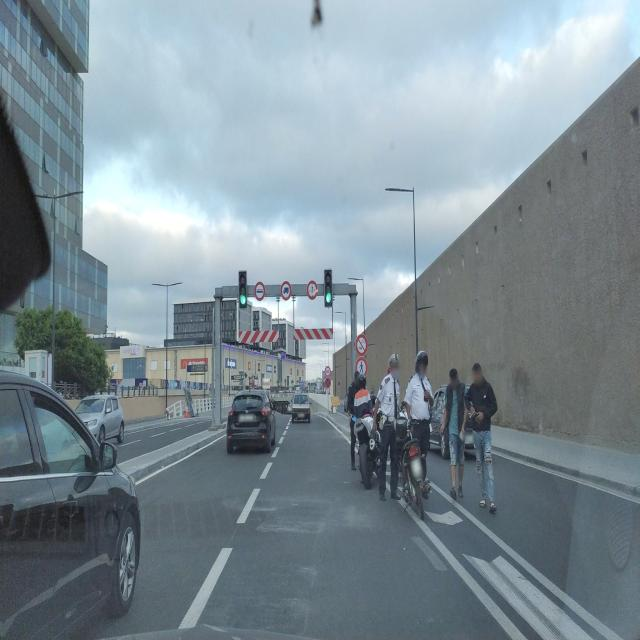bike: (355, 414, 380, 480)
car: (0, 364, 142, 638), (226, 386, 276, 455), (74, 393, 124, 446), (291, 392, 311, 424), (271, 388, 292, 414)
